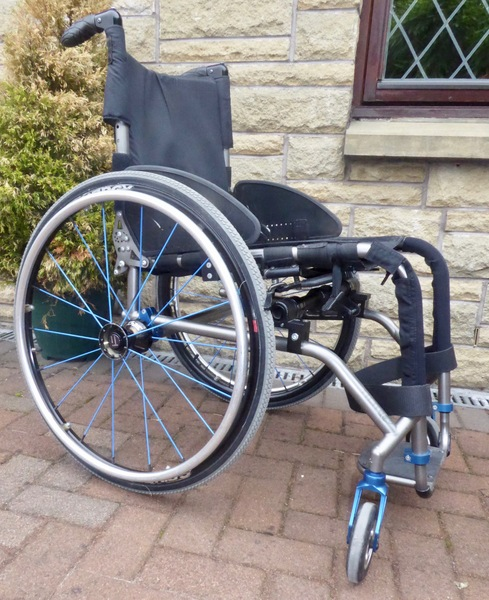wheelchair: (14, 7, 459, 570)
